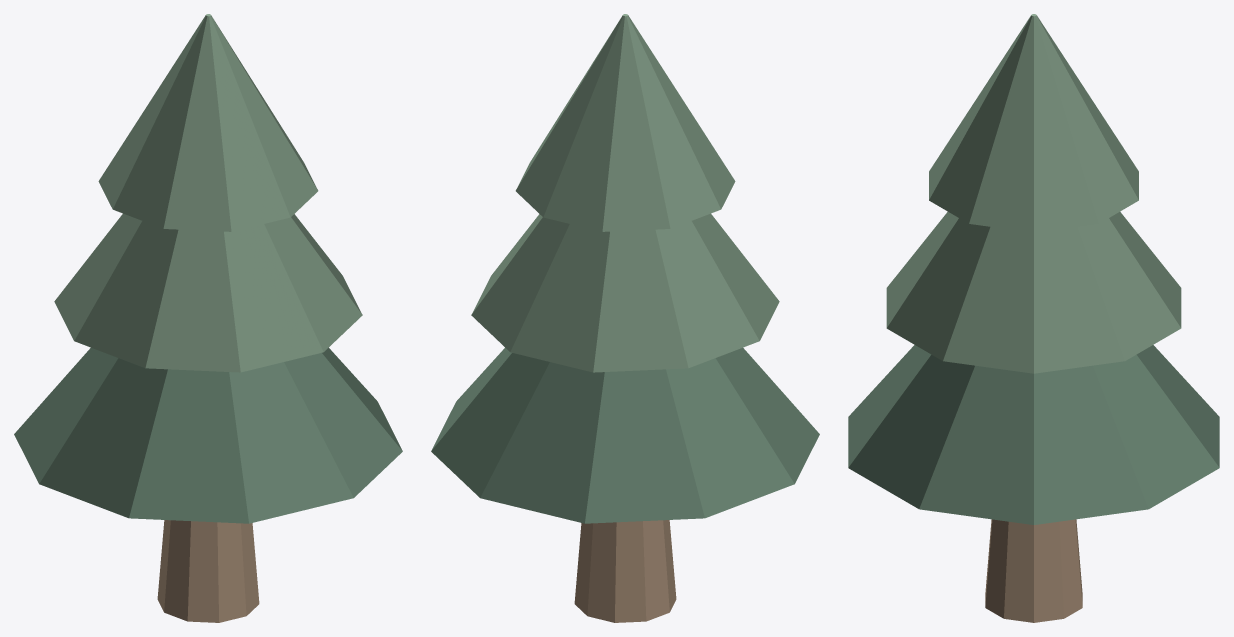
File: tree.glb
The picture shows the model from 3 angles, left to right: view 1: azimuth 30°, elevation 25°; view 2: azimuth 150°, elevation 25°; view 3: azimuth 270°, elevation 25°; orthographic projection.
Bounding box in the file's own units: 2.9 × 4.8 × 2.76.
